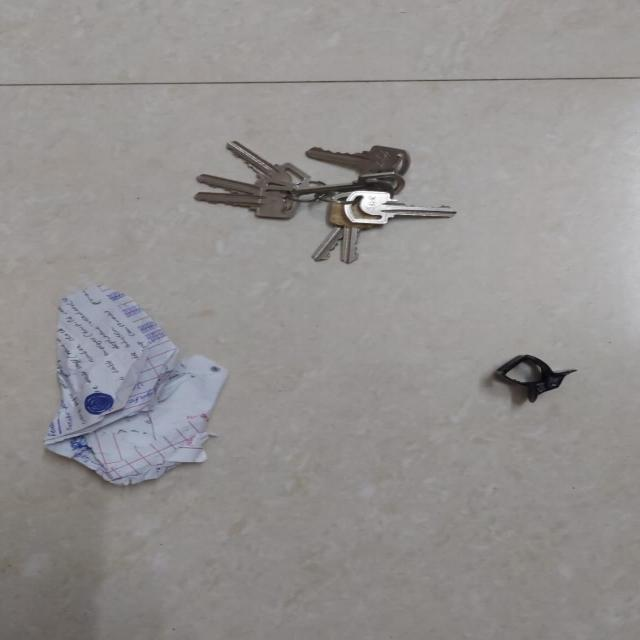dry: (183, 129, 463, 272), (39, 281, 225, 488), (487, 351, 581, 406)
